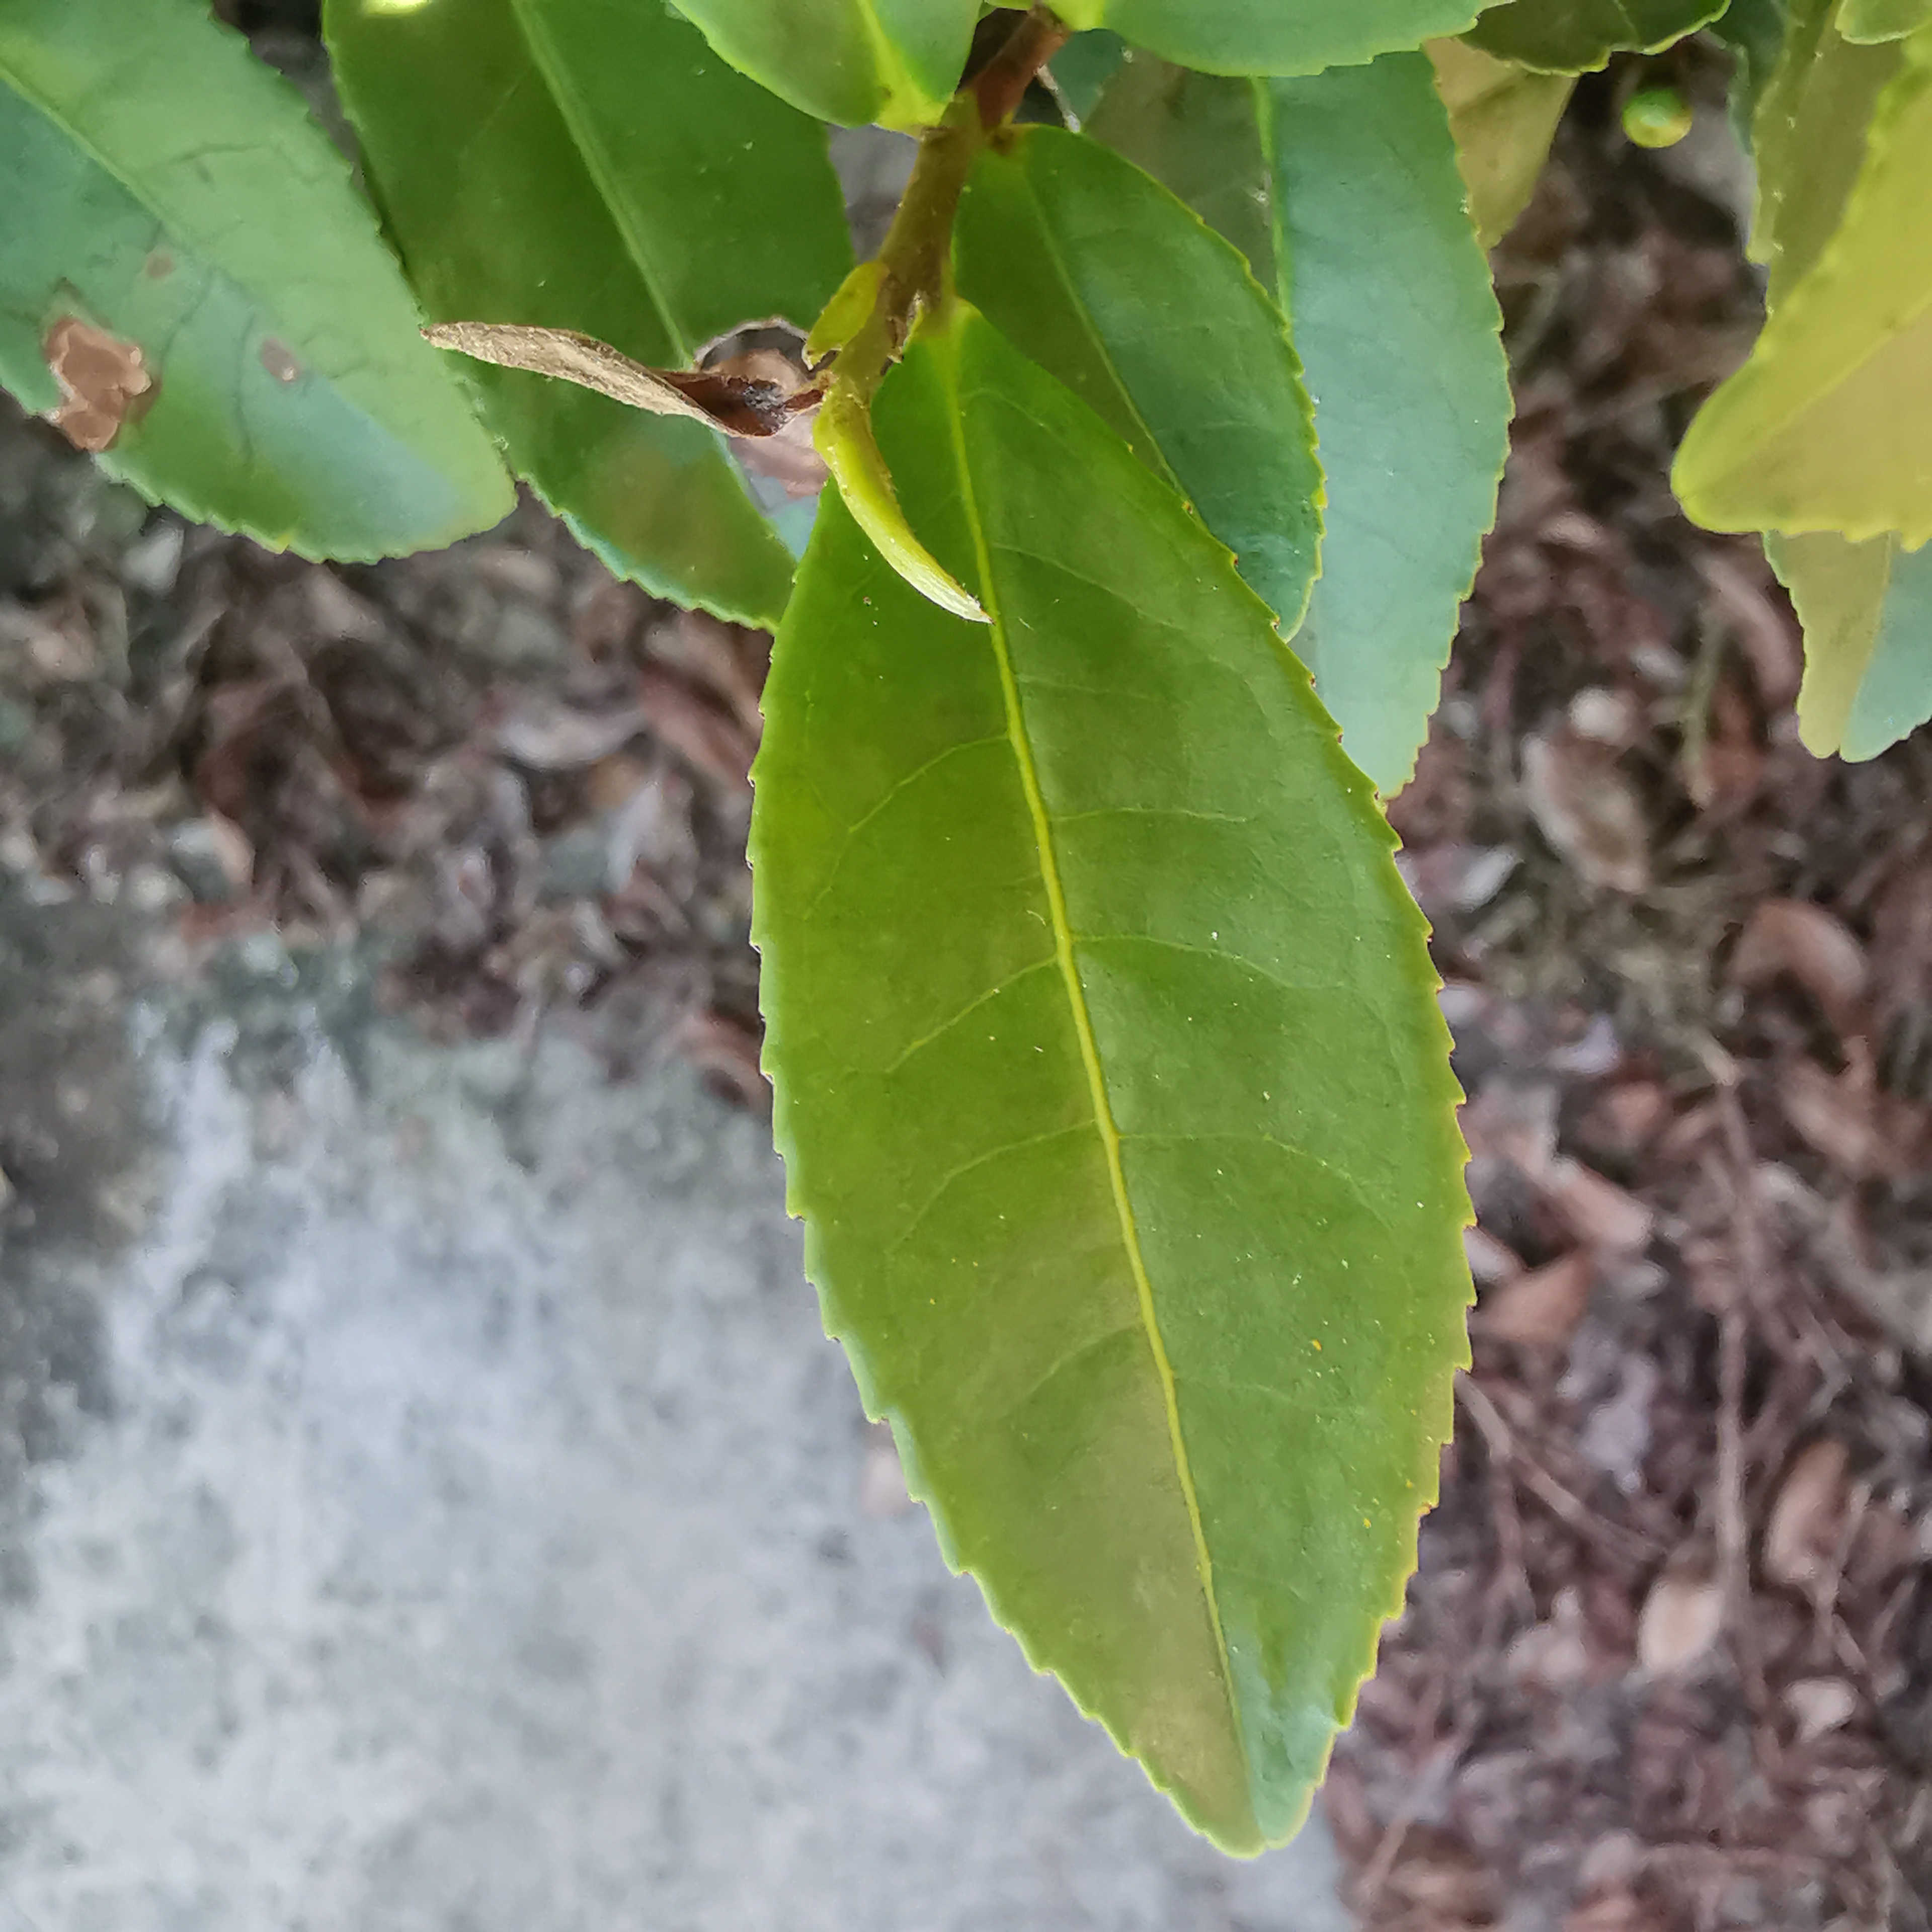healthy: (736, 297, 1484, 1870)
tanju_high: (4, 2, 518, 577)
